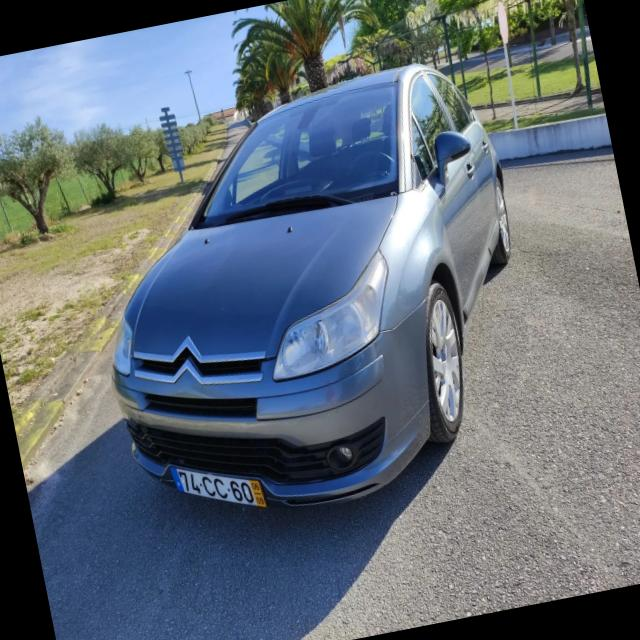portuguese-license-plates: (168, 466, 271, 511)
